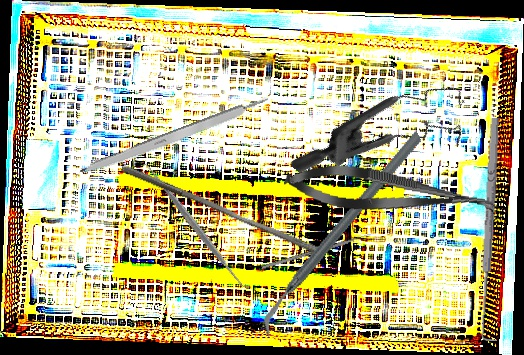Chopper: (215, 130, 470, 338)
Hook Surgical: (476, 117, 509, 342)
Micro Scissor: (282, 158, 501, 227)
Pusher: (117, 164, 328, 258), (261, 230, 379, 270)
Scalpel Handle: (77, 93, 274, 181)
Spatula Surgical: (138, 157, 253, 295)
Speculum: (288, 36, 486, 240)
